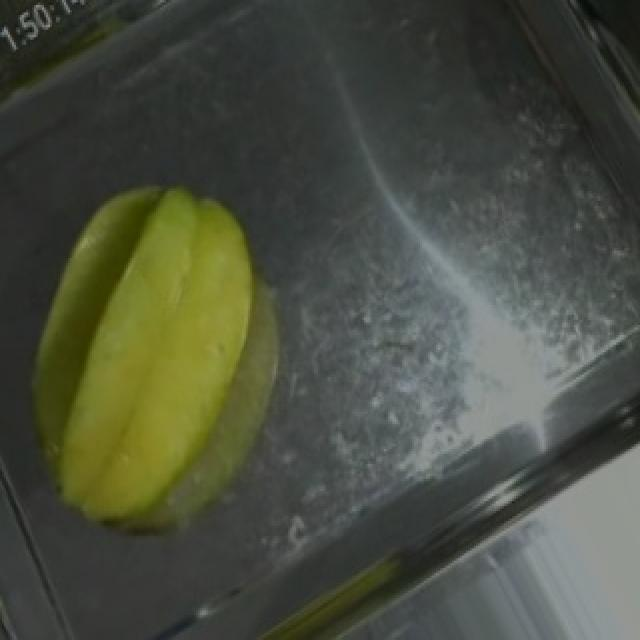fruit: (8, 144, 360, 541)
